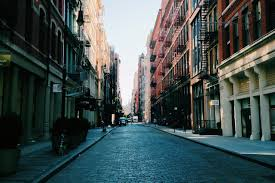strada: (116, 124, 216, 183)
